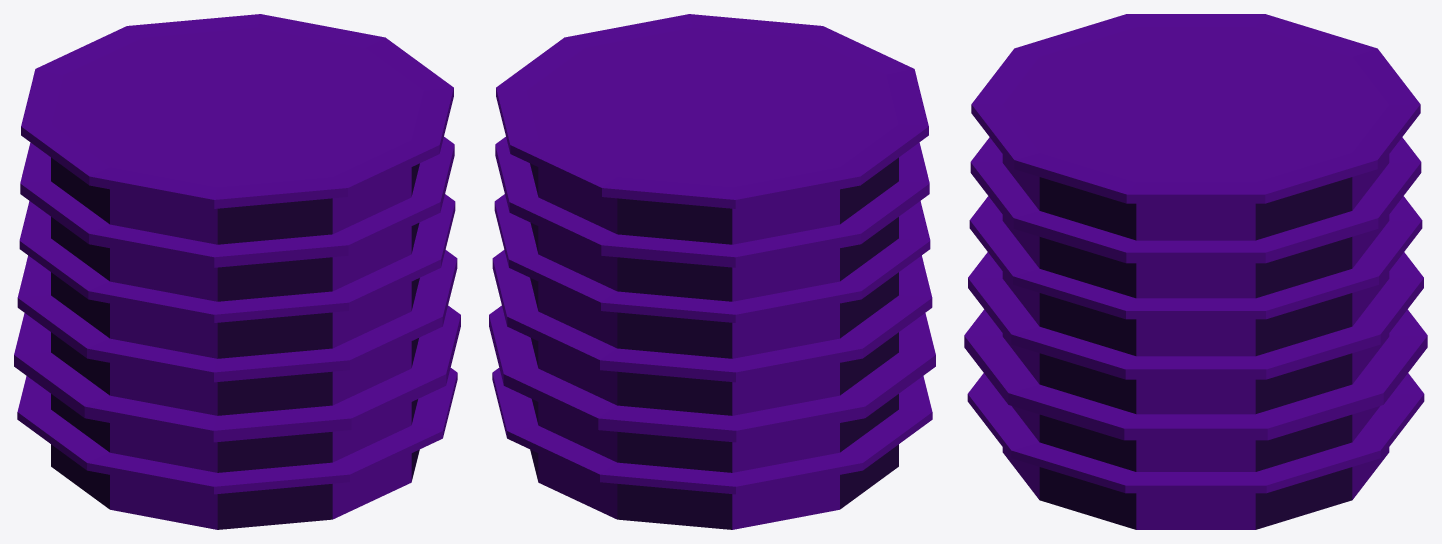
Rendered from Morado GRANDE Edificio 4.glb.
3 views of the same model, side by side, from view 1: azimuth 30°, elevation 25°; view 2: azimuth 150°, elevation 25°; view 3: azimuth 270°, elevation 25° (orthographic).
Visible parts, largest first — view 1: Cylinder.004; view 2: Cylinder.004; view 3: Cylinder.004.
Boxes of the visible parts, x1,y1,x2,y2 form: Cylinder.004: [14, 14, 460, 529]; Cylinder.004: [489, 14, 935, 529]; Cylinder.004: [964, 14, 1427, 529].
Size of the model in its own units: 91.64 by 79.79 by 96.35.
